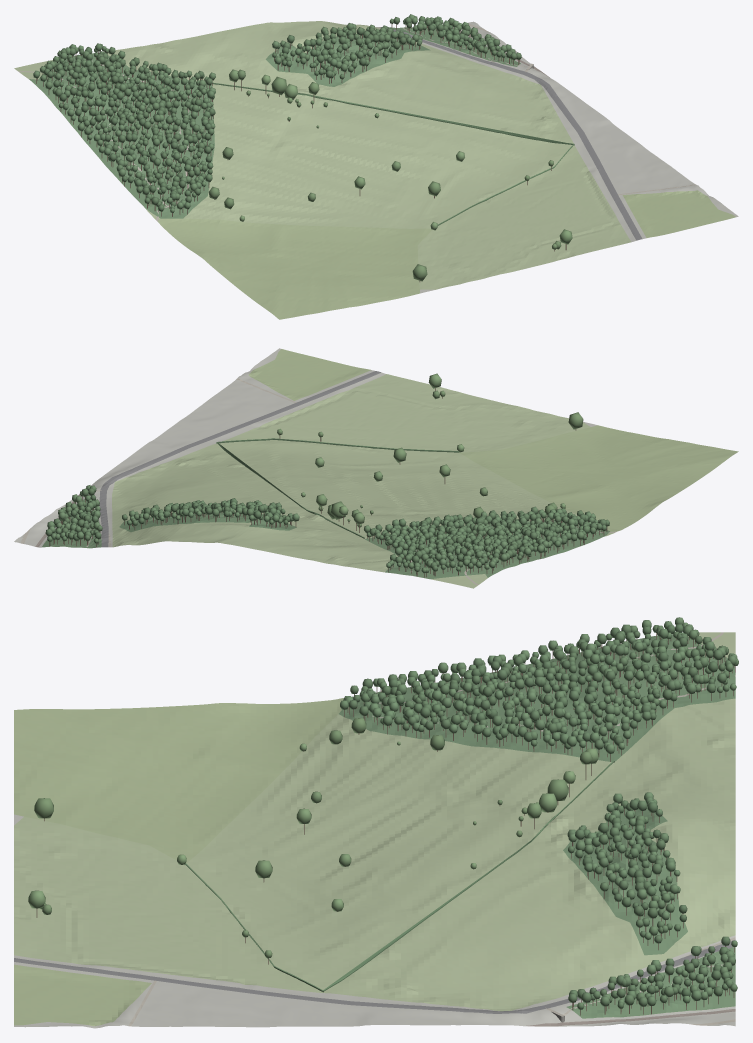
3 views of the same model, one above another, from view 1: azimuth 30°, elevation 25°; view 2: azimuth 150°, elevation 25°; view 3: azimuth 270°, elevation 25° (orthographic). The views are drawn at different scales.
Visible parts, largest first — view 1: way/23352525@t03_06, way/103849593@t03_06, way/4837143@t03_06_canopy, t03_06_terrain, way/4837143@t03_06, way/614847066@t03_06_canopy, way/1357573838@t03_06, t03_06_trees_mapped, way/614847066@t03_06, relation/21382841@t03_06_canopy, t03_06_roads_major, t03_06_hedges (+2 smaller); view 2: way/23352525@t03_06, way/103849593@t03_06, way/4837143@t03_06_canopy, t03_06_terrain, way/1357573838@t03_06, way/614847066@t03_06_canopy, way/4837143@t03_06, relation/21382841@t03_06_canopy, t03_06_trees_mapped, t03_06_roads_major, way/614847066@t03_06, t03_06_hedges (+1 smaller); view 3: way/23352525@t03_06, way/103849593@t03_06, way/4837143@t03_06_canopy, t03_06_terrain, way/4837143@t03_06, way/614847066@t03_06_canopy, way/1357573838@t03_06, relation/21382841@t03_06_canopy, way/614847066@t03_06, t03_06_trees_mapped, relation/21382841@t03_06, t03_06_roads_major (+3 smaller).
Boxes of the visible parts, <box> form: way/23352525@t03_06: <box>14,21,631,289</box>; way/103849593@t03_06: <box>159,218,432,319</box>; way/4837143@t03_06_canopy: <box>33,43,215,216</box>; t03_06_terrain: <box>34,21,738,293</box>; way/4837143@t03_06: <box>29,52,214,218</box>; way/614847066@t03_06_canopy: <box>272,23,422,83</box>; way/1357573838@t03_06: <box>622,190,735,237</box>; t03_06_trees_mapped: <box>208,69,572,281</box>; way/614847066@t03_06: <box>266,35,430,86</box>; relation/21382841@t03_06_canopy: <box>389,14,521,65</box>; t03_06_roads_major: <box>380,27,642,240</box>; t03_06_hedges: <box>212,82,574,225</box>; way/23352525@t03_06: <box>112,374,622,588</box>; way/103849593@t03_06: <box>459,425,738,531</box>; way/4837143@t03_06_canopy: <box>364,506,609,577</box>; t03_06_terrain: <box>14,348,597,548</box>; way/1357573838@t03_06: <box>248,349,370,400</box>; way/614847066@t03_06_canopy: <box>122,498,299,529</box>; way/4837143@t03_06: <box>365,519,609,579</box>; relation/21382841@t03_06_canopy: <box>45,485,102,547</box>; t03_06_trees_mapped: <box>277,373,583,532</box>; t03_06_roads_major: <box>99,371,381,547</box>; way/614847066@t03_06: <box>119,512,296,532</box>; t03_06_hedges: <box>216,438,458,538</box>; way/23352525@t03_06: <box>14,632,735,1011</box>; way/103849593@t03_06: <box>14,698,343,863</box>; way/4837143@t03_06_canopy: <box>340,617,738,761</box>; t03_06_terrain: <box>14,814,735,1028</box>; way/4837143@t03_06: <box>339,634,735,761</box>; way/614847066@t03_06_canopy: <box>567,792,687,950</box>; way/1357573838@t03_06: <box>14,964,151,1026</box>; relation/21382841@t03_06_canopy: <box>568,936,737,1015</box>; way/614847066@t03_06: <box>563,807,687,955</box>; t03_06_trees_mapped: <box>28,718,598,964</box>; relation/21382841@t03_06: <box>566,947,735,1018</box>; t03_06_roads_major: <box>14,939,735,1013</box>.
Bounding box in the file's own units: 503 × 83.34 × 502.
